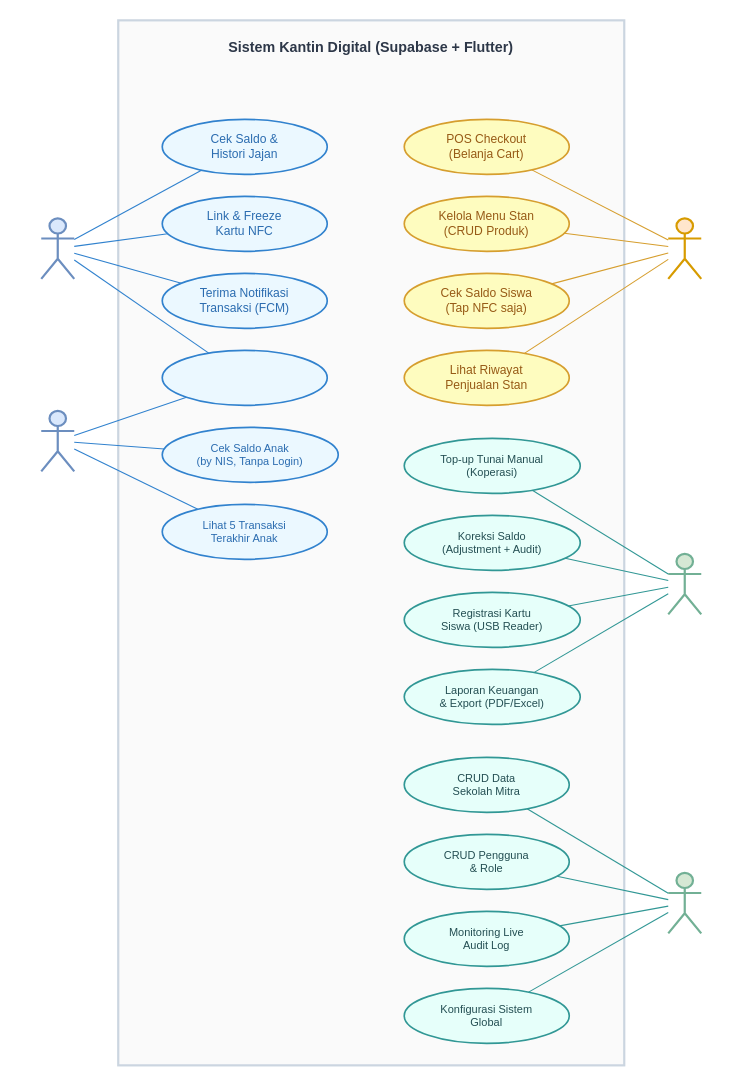
Image size: 737x1085. Some labels were removed from this diagram. The shapes that lost their labels are listed below. From the top down, each one's box as (x1, y1, x2, y2) in pixels, then its label:
(40, 217, 75, 279): 👦 Siswa
(667, 217, 702, 279): 👵 Petugas Kantin
(161, 349, 328, 406): Top-up Online (Midtrans)
(40, 409, 75, 472): 👩 Orang Tua
(667, 552, 702, 615): 👨‍💼 Admin Keuangan
(667, 871, 702, 934): 👑 Super Admin
